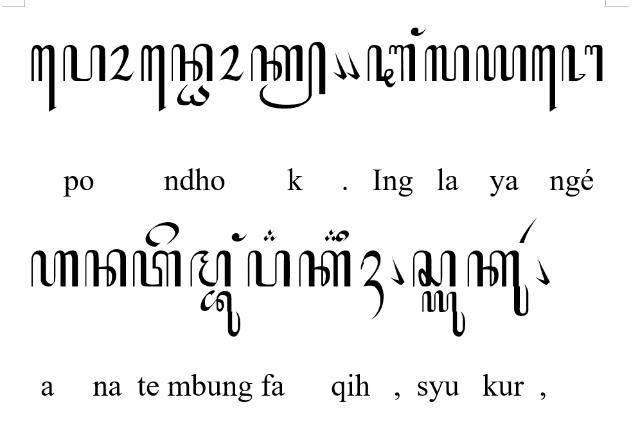-k: (252, 40, 326, 108)
I: (366, 42, 416, 88)
_bu: (199, 290, 241, 338)
_dh: (177, 83, 210, 107)
_h1: (360, 251, 384, 321)
_r1: (518, 216, 536, 243)
alt: (325, 229, 339, 242), (264, 229, 276, 242)
e: (144, 221, 180, 246)
e1: (530, 44, 558, 112), (140, 44, 167, 111), (31, 44, 57, 112)
h: (30, 250, 80, 288)
i: (336, 230, 348, 242)
k: (298, 250, 352, 288)
kom: (330, 50, 348, 80), (534, 254, 550, 286), (346, 49, 360, 80), (390, 255, 404, 285)
ku: (467, 250, 529, 316)
l: (424, 43, 471, 82)
m: (190, 249, 232, 287)
n: (170, 42, 213, 82), (84, 248, 126, 288)
ng: (410, 27, 428, 37), (230, 231, 248, 241)
nga: (562, 43, 604, 82)
o: (109, 44, 135, 82), (218, 44, 244, 82)
p: (247, 250, 291, 288), (64, 43, 106, 81)
s: (412, 250, 456, 288)
t: (132, 249, 182, 287)
y: (476, 44, 526, 82)
yu: (422, 290, 466, 338)
